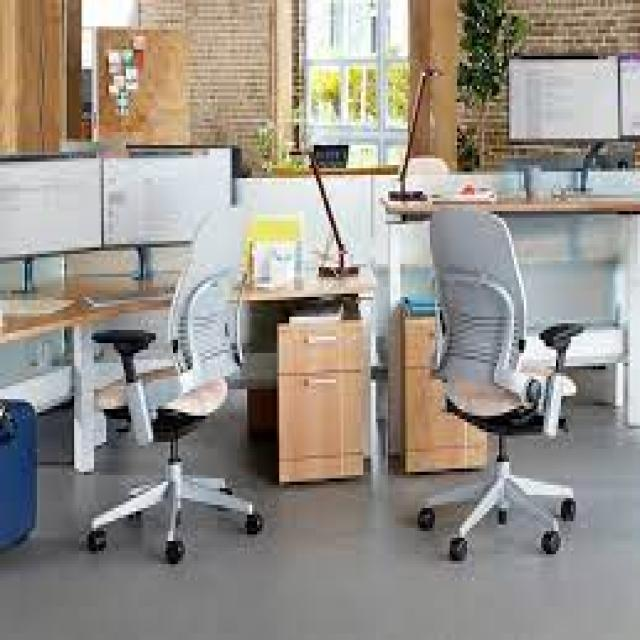chair: (45, 166, 301, 588), (344, 185, 607, 590)
